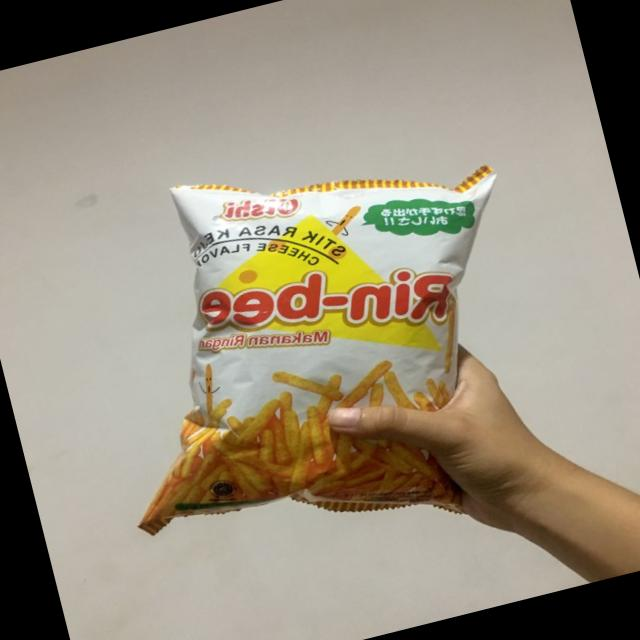KemasanPlastik: (59, 107, 576, 588)
